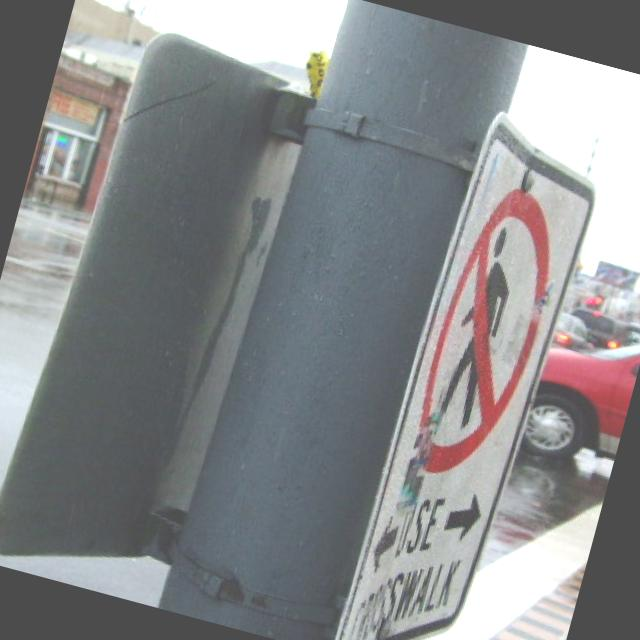Vehicle: (517, 305, 640, 478), (563, 304, 640, 356), (550, 311, 600, 358), (625, 320, 640, 346)
